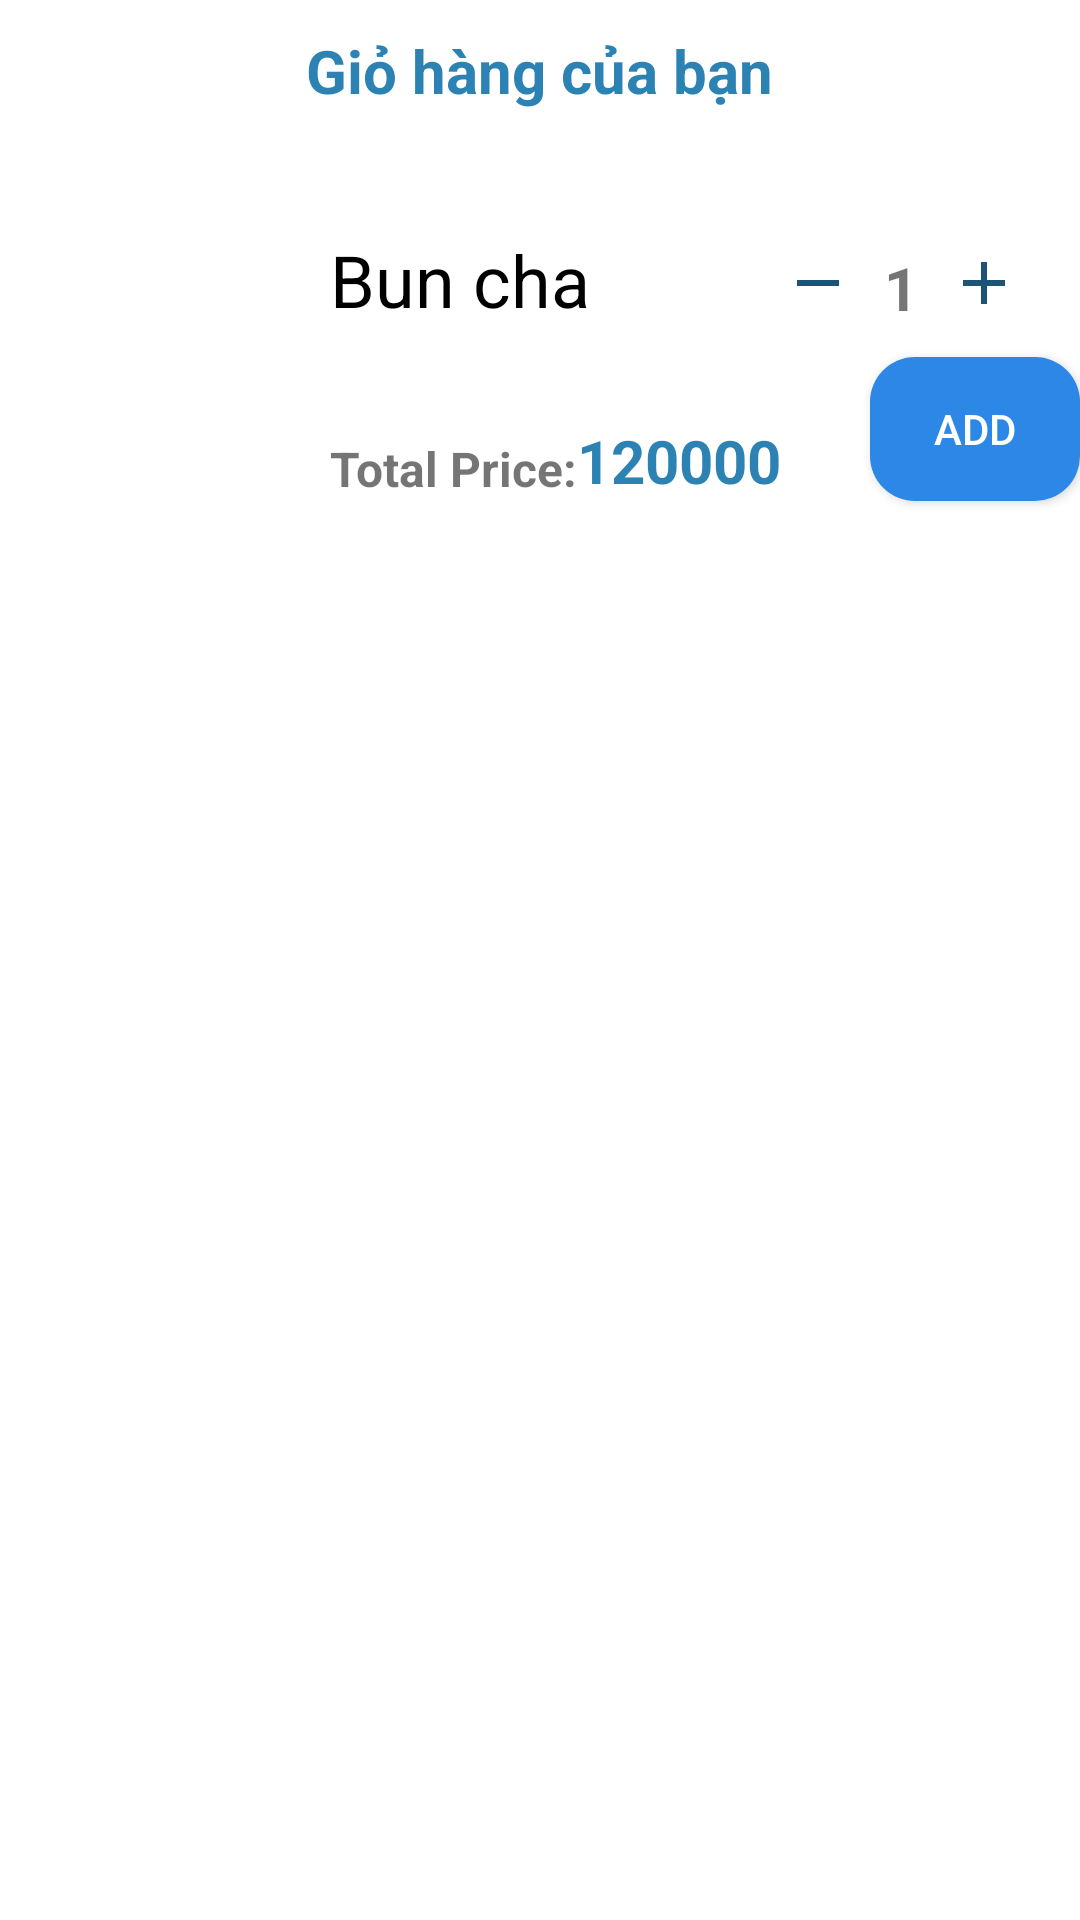

Point at icon controls on the screen. Image size 1080 x 1920, points as (x,y).
increase: (984,283)
